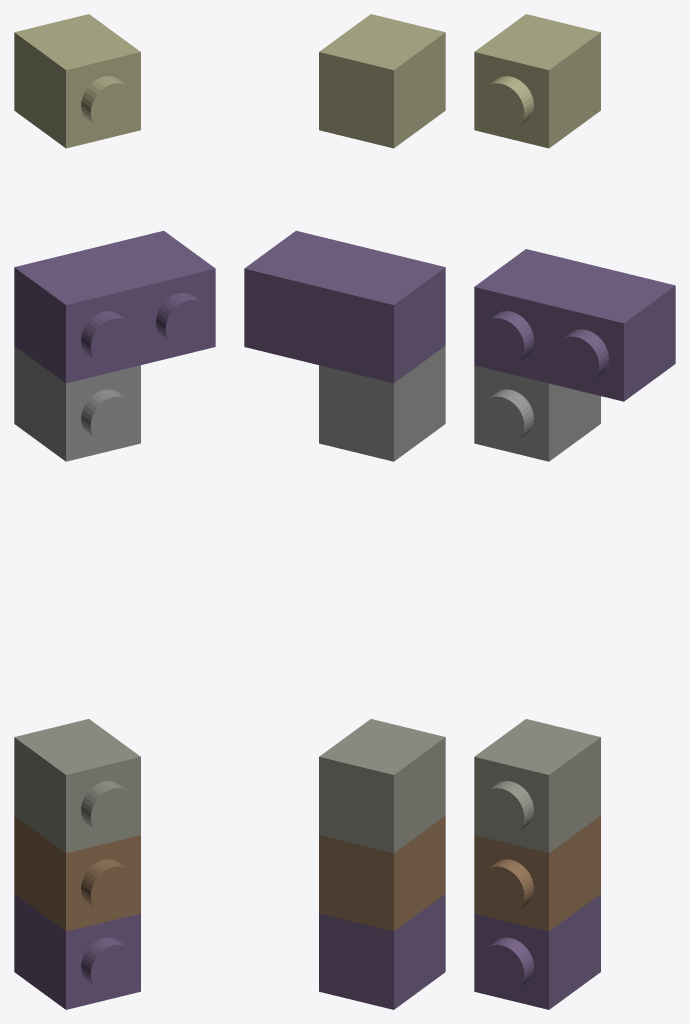
File: current.glb
3 renders of one model, left to right at view 1: azimuth 30°, elevation 25°; view 2: azimuth 150°, elevation 25°; view 3: azimuth 330°, elevation 25°, orthographic.
Visible parts, largest first — view 1: world; view 2: world; view 3: world.
Boxes of the visible parts, <box> form: world: <box>14,14,215,1009</box>; world: <box>244,14,445,1009</box>; world: <box>474,14,675,1009</box>.
Size of the model in its own units: 16 by 96 by 11.4.
